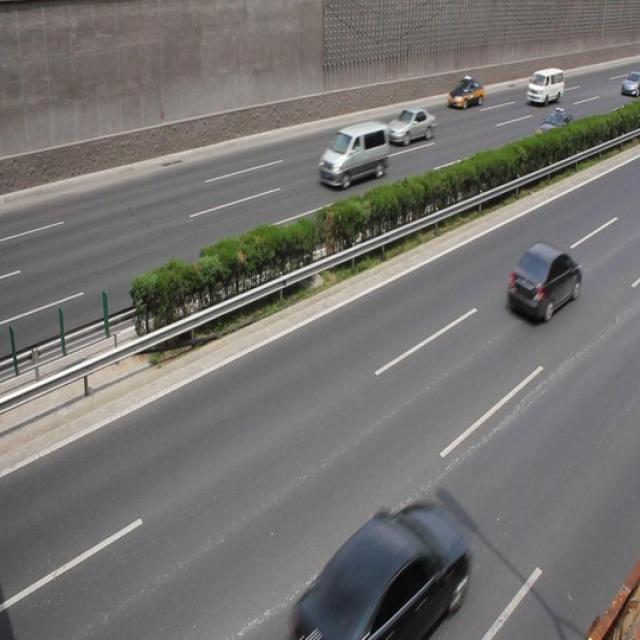car: (286, 497, 469, 630), (504, 241, 580, 320), (534, 106, 575, 152), (385, 107, 434, 145), (446, 76, 482, 108)
truck: (318, 121, 386, 188), (524, 67, 563, 104)
